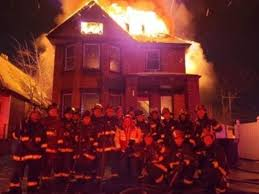fire: (56, 2, 192, 68)
